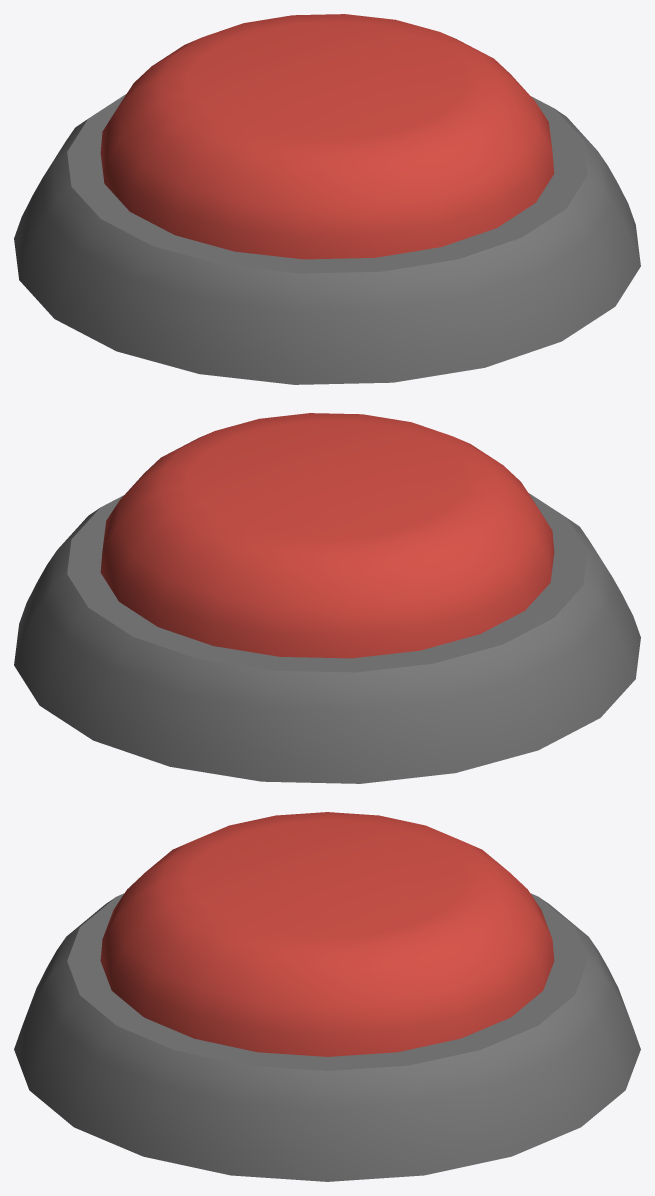
File: A_2DT-BTN.fbx
The picture shows the model from 3 angles, top to bottom: view 1: azimuth 30°, elevation 25°; view 2: azimuth 150°, elevation 25°; view 3: azimuth 270°, elevation 25°; orthographic projection.
Visible parts, largest first — view 1: Boton; view 2: Boton; view 3: Boton.
Boxes of the visible parts, x1=… form: Boton: x1=14, y1=14, x2=640, y2=384; Boton: x1=14, y1=413, x2=640, y2=783; Boton: x1=14, y1=812, x2=640, y2=1181.
Size of the model in its own units: 1.02 by 0.316 by 1.02.
